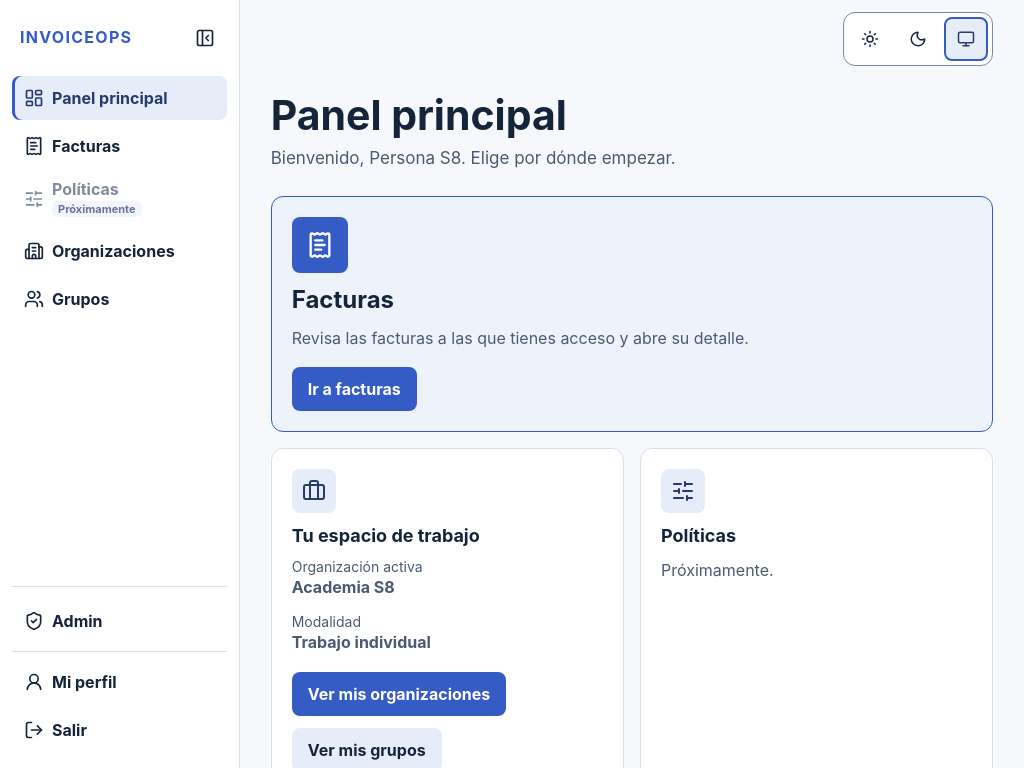
Scenario: APP12 S8 global acceptance characterization › mounts the real Organizaciones surface with Spanish landmarks and valid accessible references
expect the text "Bienvenido, Persona S8. Elige por dónde empezar." is shown: met, box [271, 148, 676, 168]
Click the link "Organizaciones" at (99, 252), box [24, 242, 175, 262]
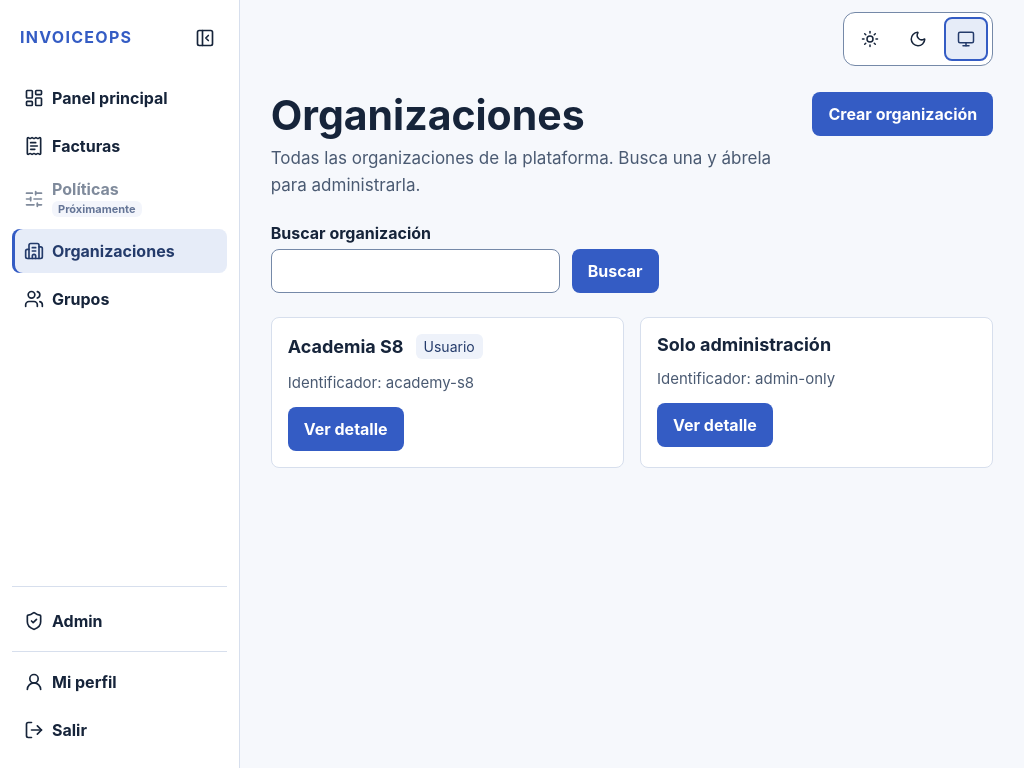
expect the heading "Academia S8" is shown: met, box [288, 336, 404, 357]
expect the heading "Organizaciones" is shown: met, box [271, 90, 585, 140]
expect the heading "Tu espacio de trabajo" is gone: met
